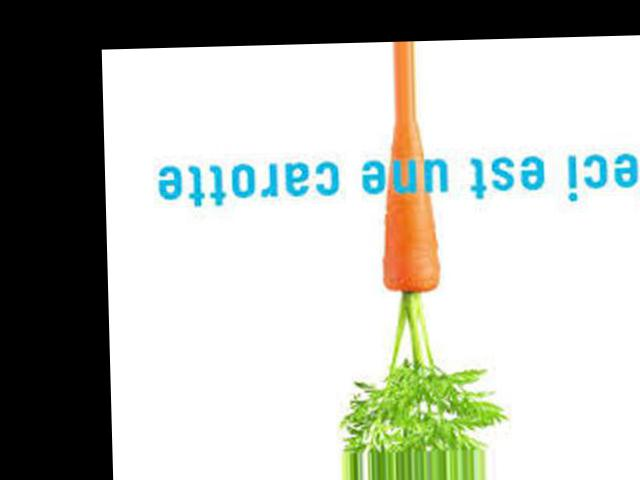carrot: (366, 116, 446, 296)
